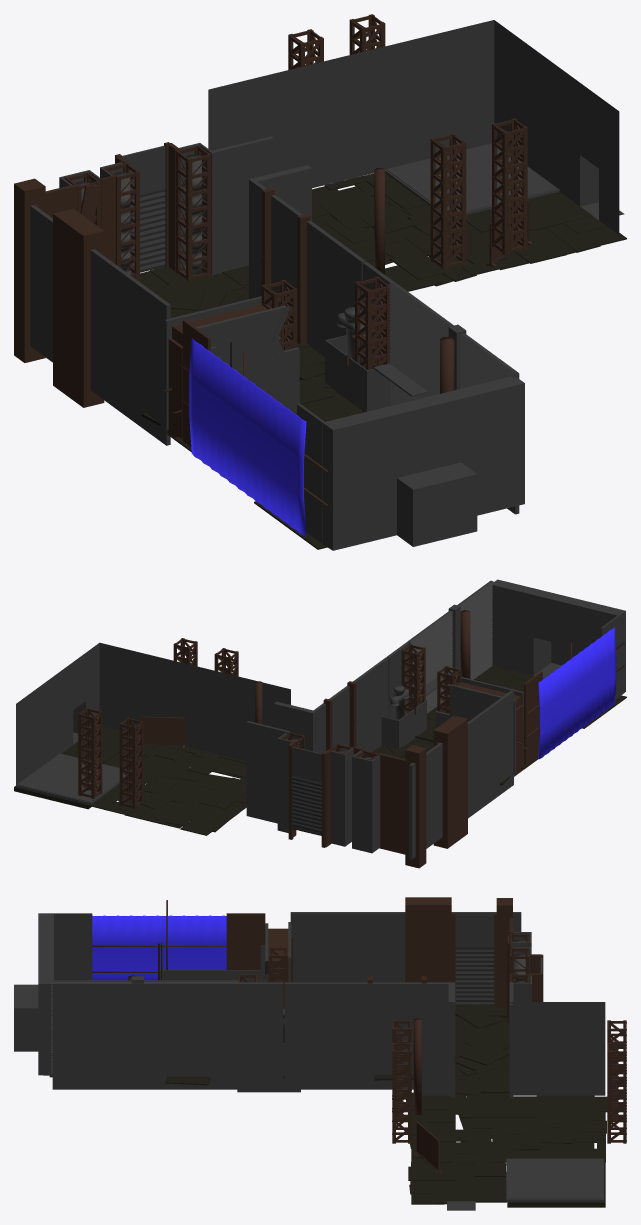
The model's file is OgreFortress1.FBX.
3 views of the same model, one above another, from view 1: azimuth 30°, elevation 25°; view 2: azimuth 150°, elevation 25°; view 3: azimuth 270°, elevation 25° (orthographic). The views are drawn at different scales.
Parts seen in each view (by area): view 1: OgreFortress1; view 2: OgreFortress1; view 3: OgreFortress1.
Part boxes in pixels (x1,y1,x2,y2): OgreFortress1: (14, 14, 626, 550); OgreFortress1: (14, 579, 626, 868); OgreFortress1: (14, 897, 626, 1210).
Size of what is drawn, in the model's own units: 5584 by 6868 by 1685.
